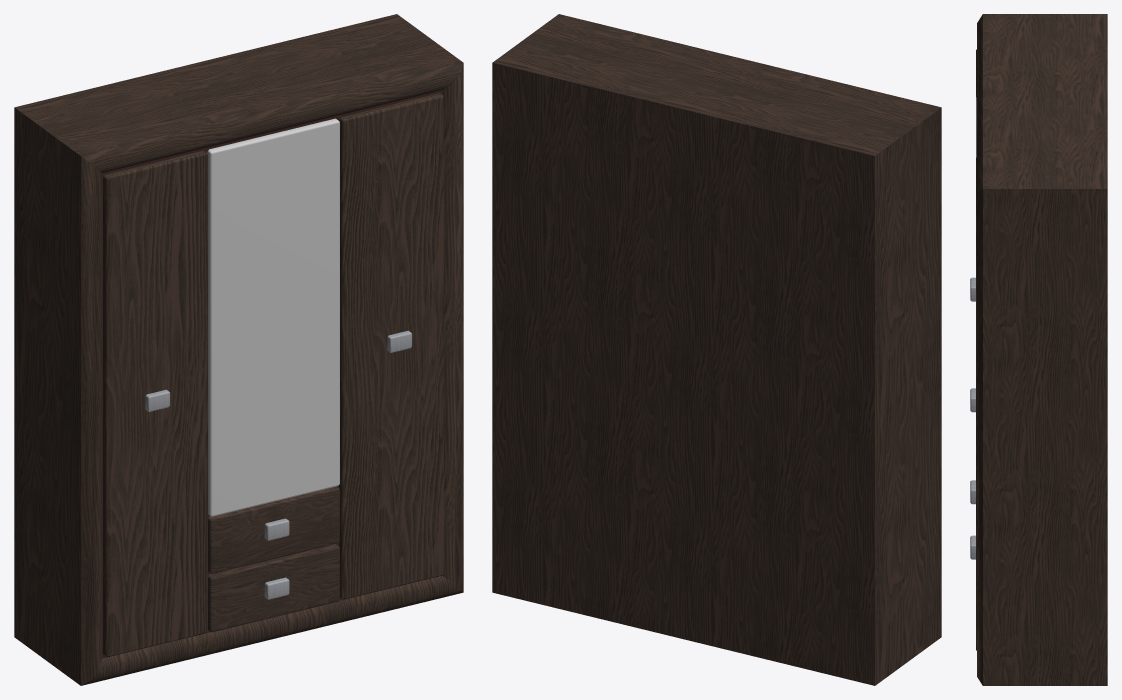
Rendered from cupboard_011.fbx.
3 views of the same model, side by side, from view 1: azimuth 30°, elevation 25°; view 2: azimuth 150°, elevation 25°; view 3: azimuth 270°, elevation 25° (orthographic). The views are drawn at different scales.
Parts seen in each view (by area): view 1: cupboard_011; view 2: cupboard_011; view 3: cupboard_011.
Part boxes in pixels (bbox=[...]): cupboard_011: bbox=[14, 14, 463, 685]; cupboard_011: bbox=[492, 14, 941, 685]; cupboard_011: bbox=[970, 14, 1107, 685].
Size of the model in its own units: 207 by 68.6 by 273.
